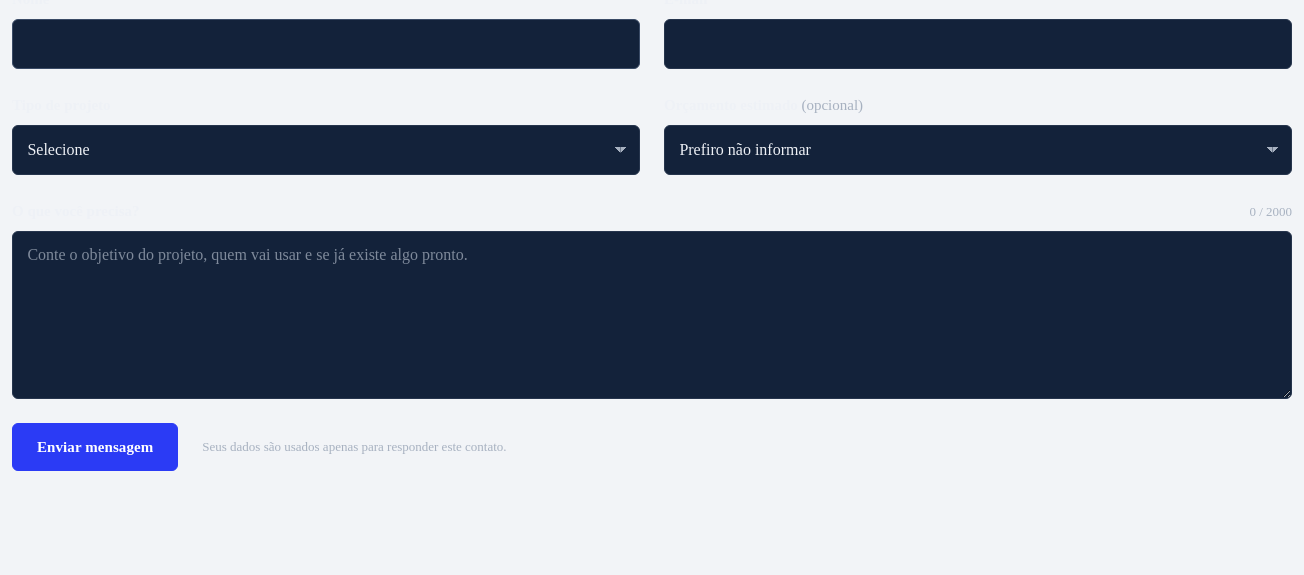
it: ContactForm › blocks submission and focuses the first invalid field
The width and height of the screenshot is (1304, 575).
Click the button "Enviar mensagem" at x=95, y=447, box [12,423,178,471]
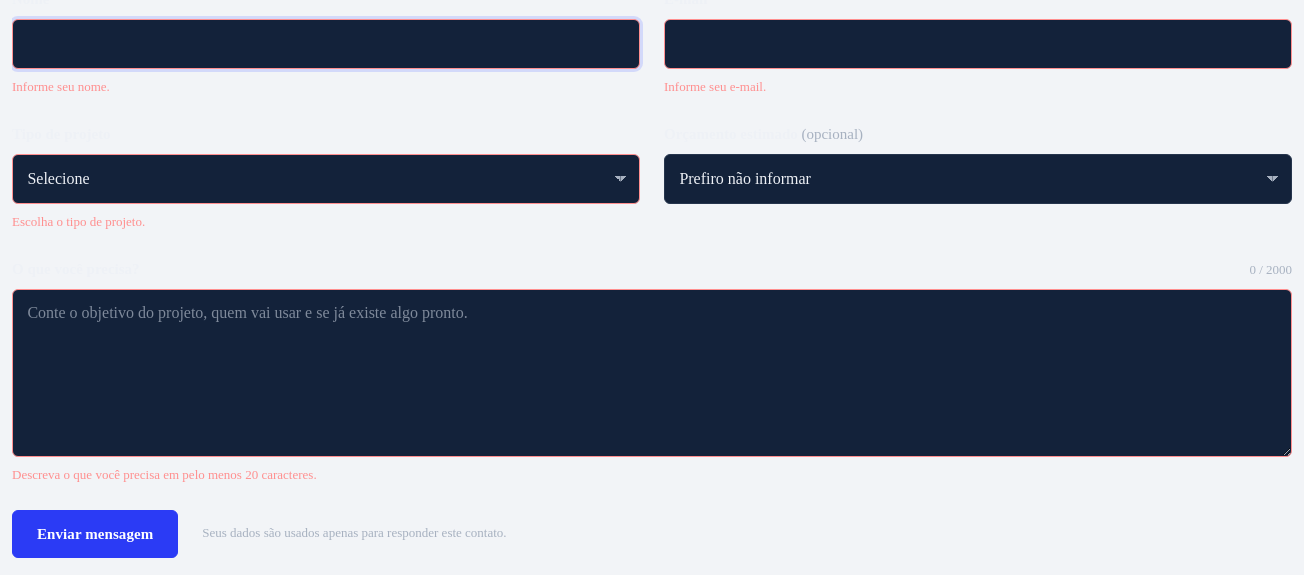
Expected: the text "Informe seu nome." is shown, [12,79,110,94]
